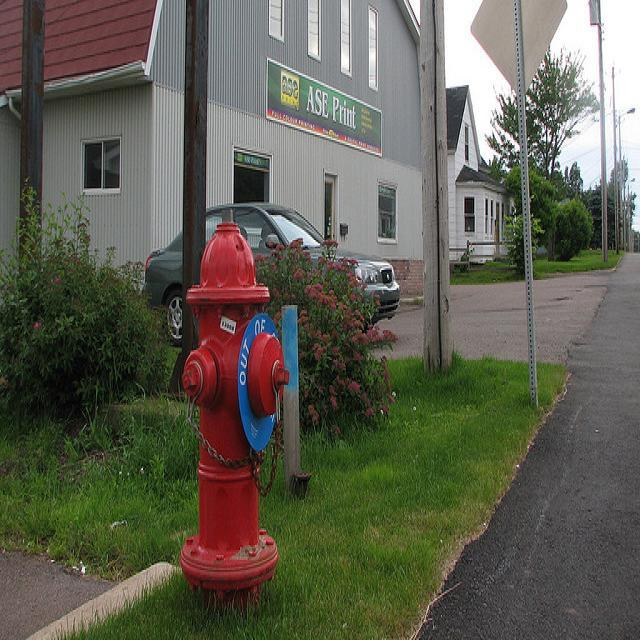fire_hydrant: (174, 217, 289, 590)
